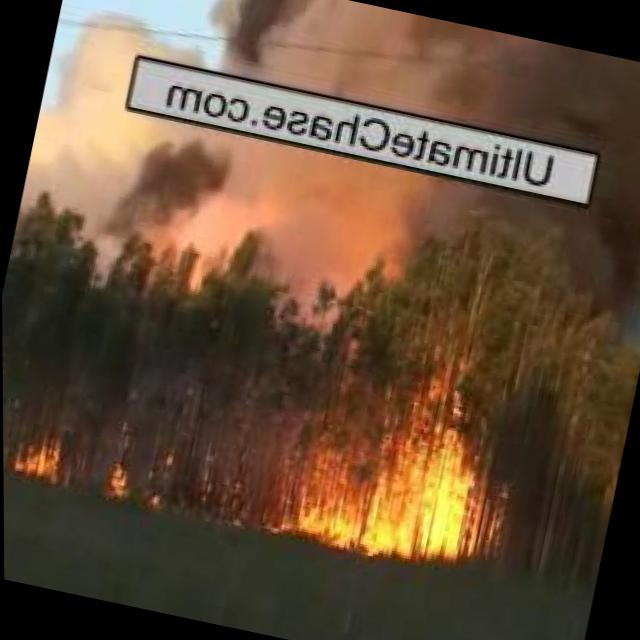Fire: (272, 416, 479, 568), (14, 438, 58, 480), (97, 464, 132, 504)
